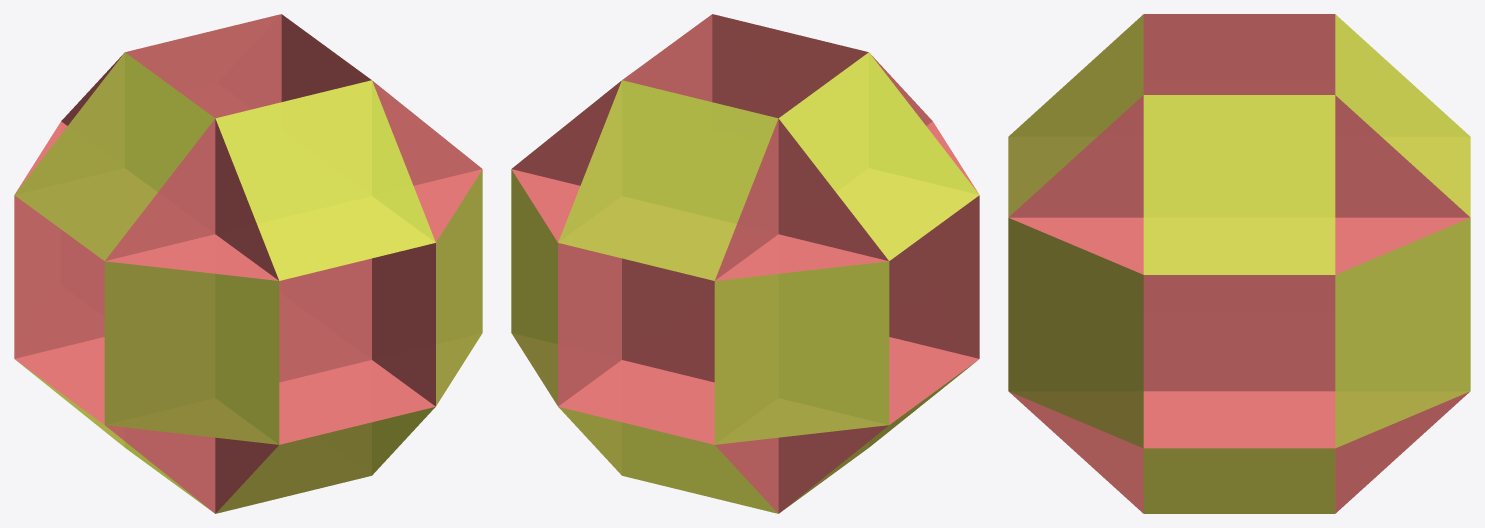
File: SmallRhombihexahedron.obj
3 views of the same model, side by side, from view 1: azimuth 30°, elevation 25°; view 2: azimuth 150°, elevation 25°; view 3: azimuth 270°, elevation 25° (orthographic). The views are drawn at different scales.
Size of the model in its own units: 2.41 by 2.41 by 2.41.
